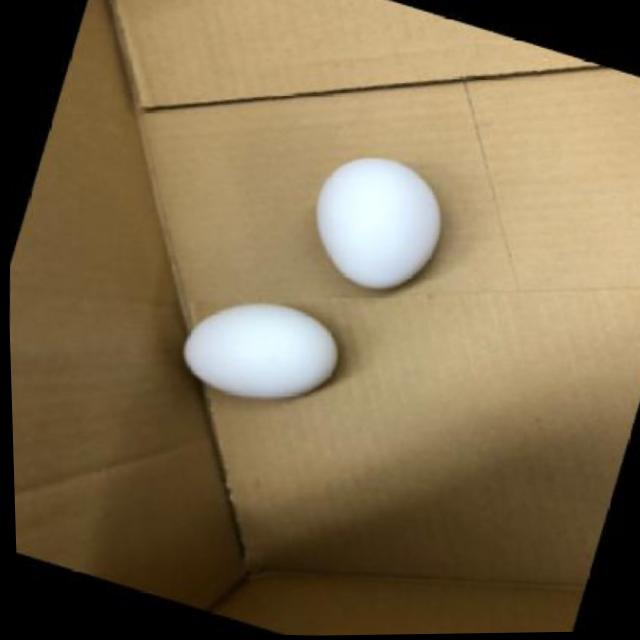egg: (303, 152, 447, 300), (175, 295, 342, 406)
